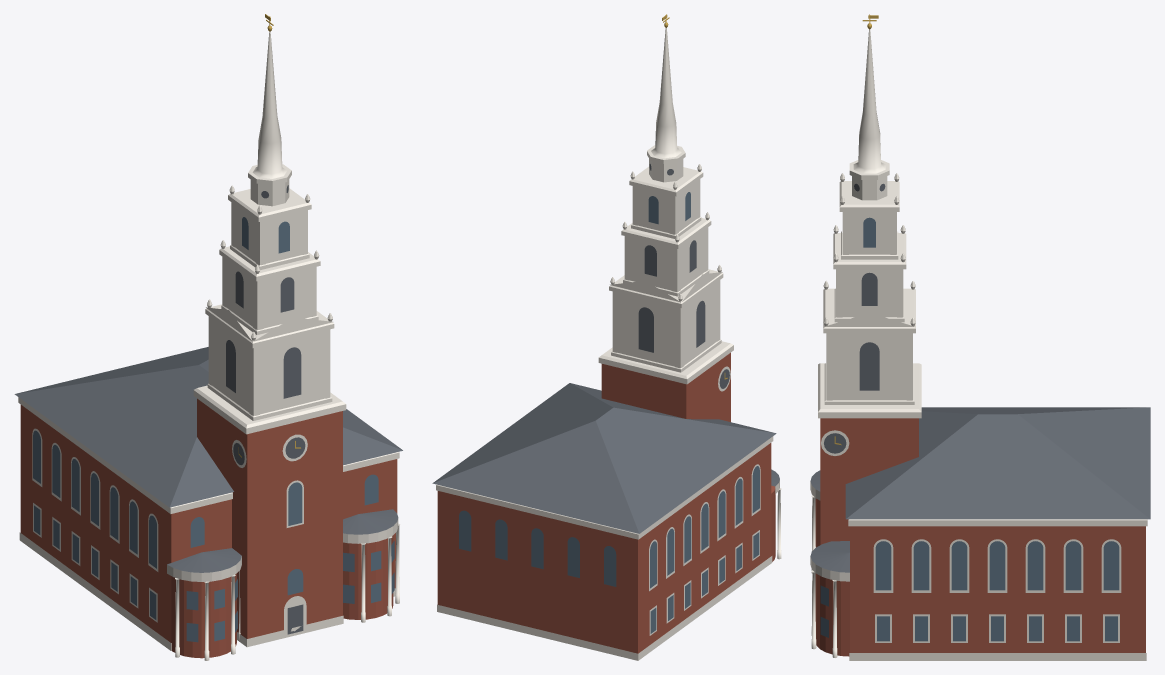
Rendered from bos-park-street-church.glb.
The picture shows the model from 3 angles, left to right: view 1: azimuth 30°, elevation 25°; view 2: azimuth 150°, elevation 25°; view 3: azimuth 270°, elevation 25°; orthographic projection. The views are drawn at different scales.
Parts seen in each view (by area): view 1: Park Street Church; view 2: Park Street Church; view 3: Park Street Church.
Part boxes in pixels (x1=…): Park Street Church: x1=14, y1=14, x2=402, y2=660; Park Street Church: x1=432, y1=14, x2=781, y2=660; Park Street Church: x1=810, y1=14, x2=1150, y2=660.
Bounding box in the file's own units: 26.95 × 66 × 34.45.
